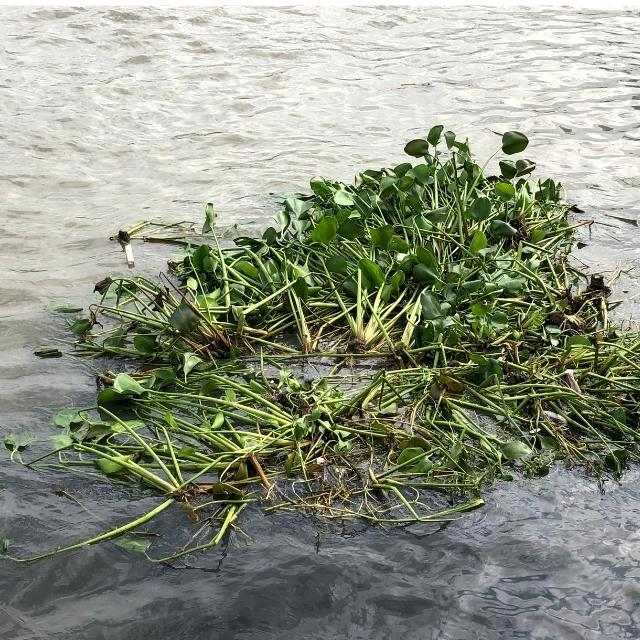water-hyacinth: (109, 147, 640, 459), (61, 346, 524, 532)
